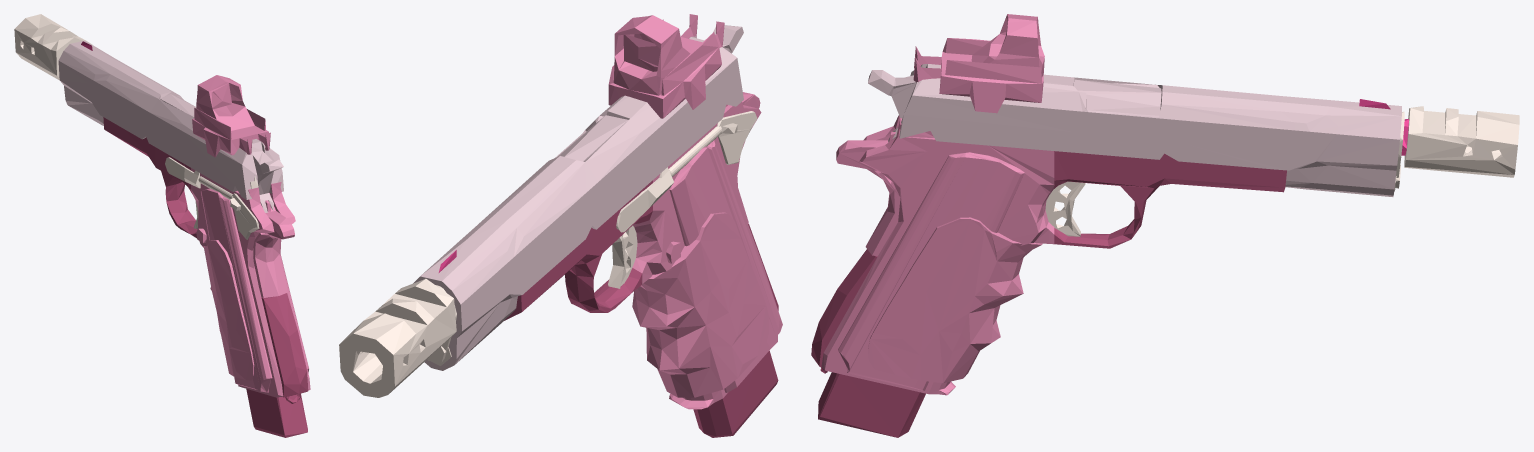
File: Pistol_M1911.obj
3 views of the same model, side by side, from view 1: azimuth 30°, elevation 25°; view 2: azimuth 150°, elevation 25°; view 3: azimuth 270°, elevation 25° (orthographic). The views are drawn at different scales.
Parts seen in each view (by area): view 1: Body, Slide, Grip, Panel, Mag; view 2: Body, Slide, Panel, Mag, Grip; view 3: Body, Slide, Panel, Mag, Grip.
Part boxes in pixels (x1,y1,x2,y2): Body: [191, 75, 310, 397]; Slide: [58, 40, 283, 212]; Grip: [246, 293, 308, 437]; Panel: [14, 14, 259, 239]; Mag: [103, 117, 197, 238]; Body: [608, 14, 782, 409]; Slide: [413, 25, 743, 370]; Panel: [339, 111, 757, 397]; Mag: [504, 180, 652, 320]; Grip: [693, 223, 778, 437]; Body: [821, 14, 1054, 395]; Slide: [868, 64, 1401, 196]; Panel: [1045, 106, 1519, 236]; Mag: [1054, 151, 1286, 248]; Grip: [811, 249, 925, 437].
Bounding box in the file's own units: 0.1585 × 0.9709 × 1.5.
